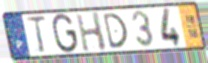3: (131, 9, 155, 49)
4: (159, 7, 183, 49)
D: (101, 12, 130, 51)
G: (51, 13, 80, 55)
H: (74, 11, 109, 53)
T: (24, 15, 48, 55)
